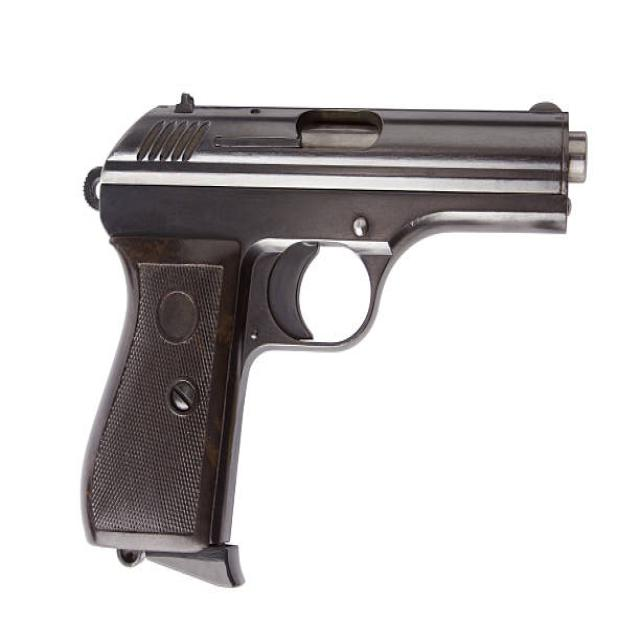pistol: (81, 87, 596, 594)
